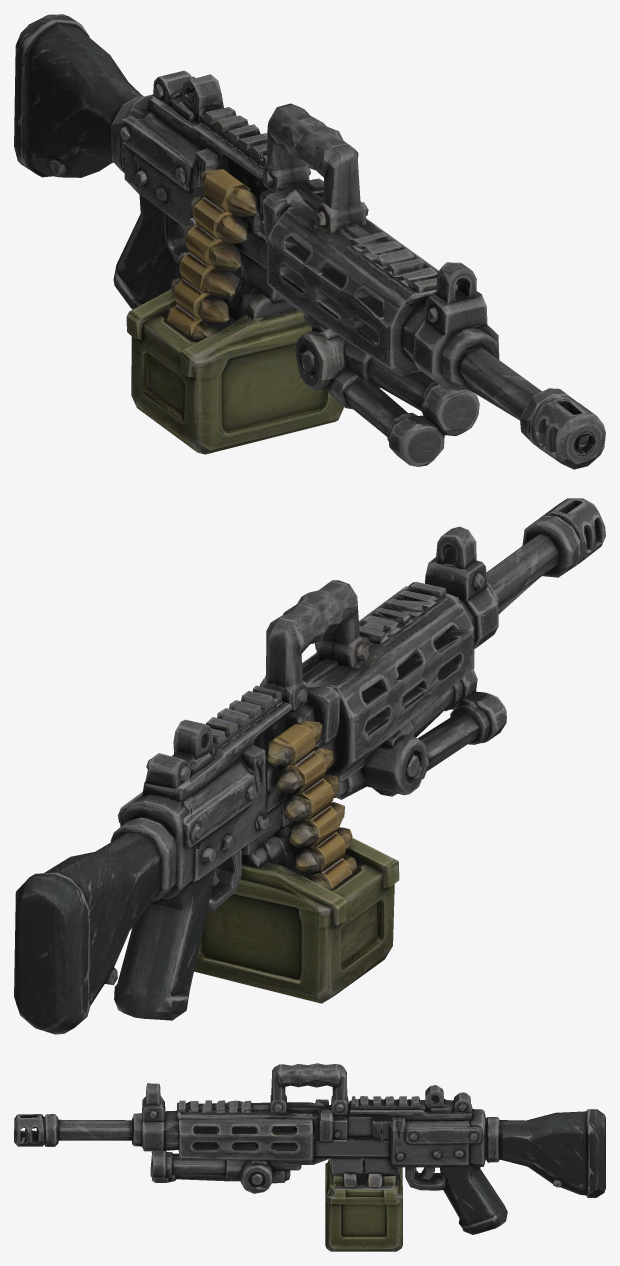
Rendered from gun_ratchet.glb.
3 renders of one model, top to bottom at view 1: azimuth 30°, elevation 25°; view 2: azimuth 150°, elevation 25°; view 3: azimuth 270°, elevation 25°, orthographic. The views are drawn at different scales.
Bounding box in the file's own units: 0.2939 × 0.5573 × 1.7.
Materials: 1 (1 with a texture image).
